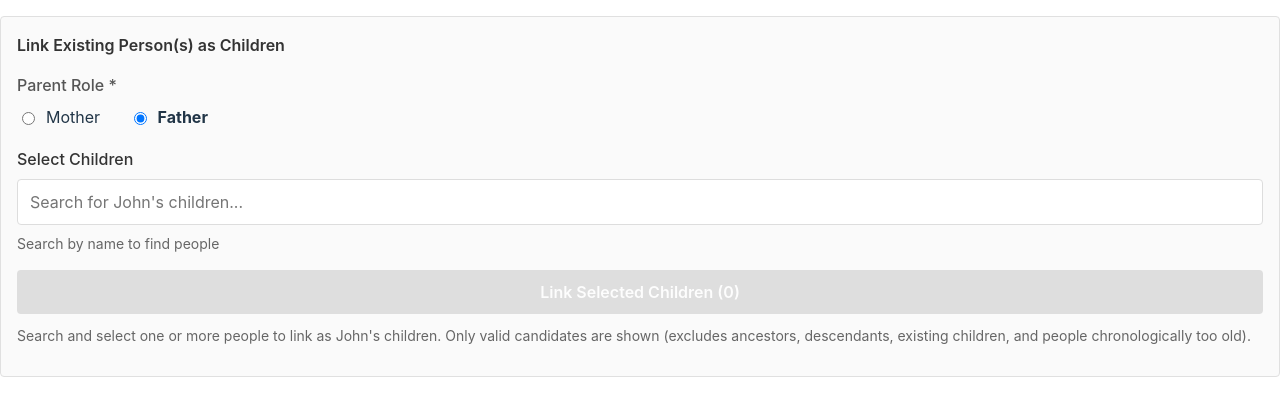
LinkExistingChildren › Child Selection › should filter out invalid children
The image size is (1280, 394).
Note: Open dropdown
Focus the dropdown labelled "Select Children": point(640, 202) [17, 179, 1263, 225]
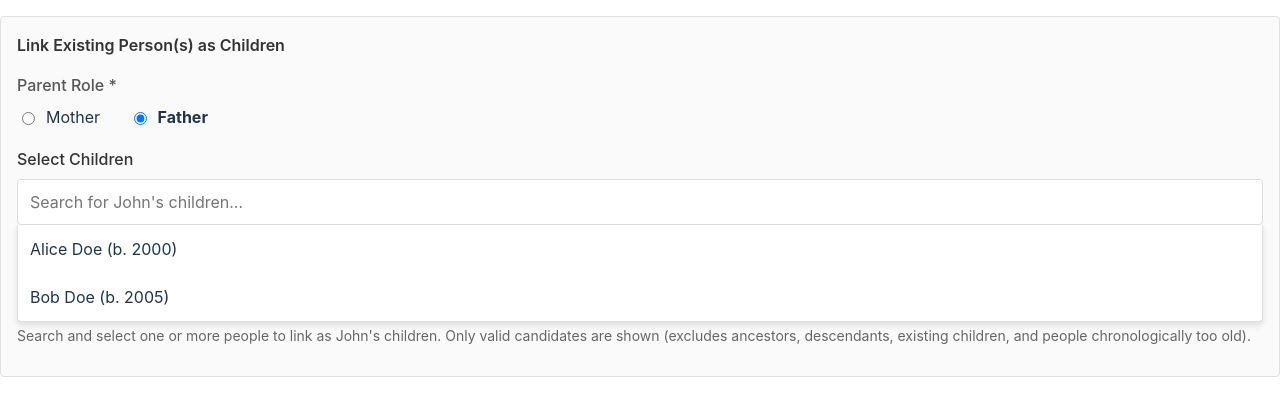
Expected: the option "Alice Doe (b. 2000)" is shown, [30, 239, 177, 259]
Expected: the option "Bob Doe (b. 2005)" is shown, [30, 287, 169, 307]
